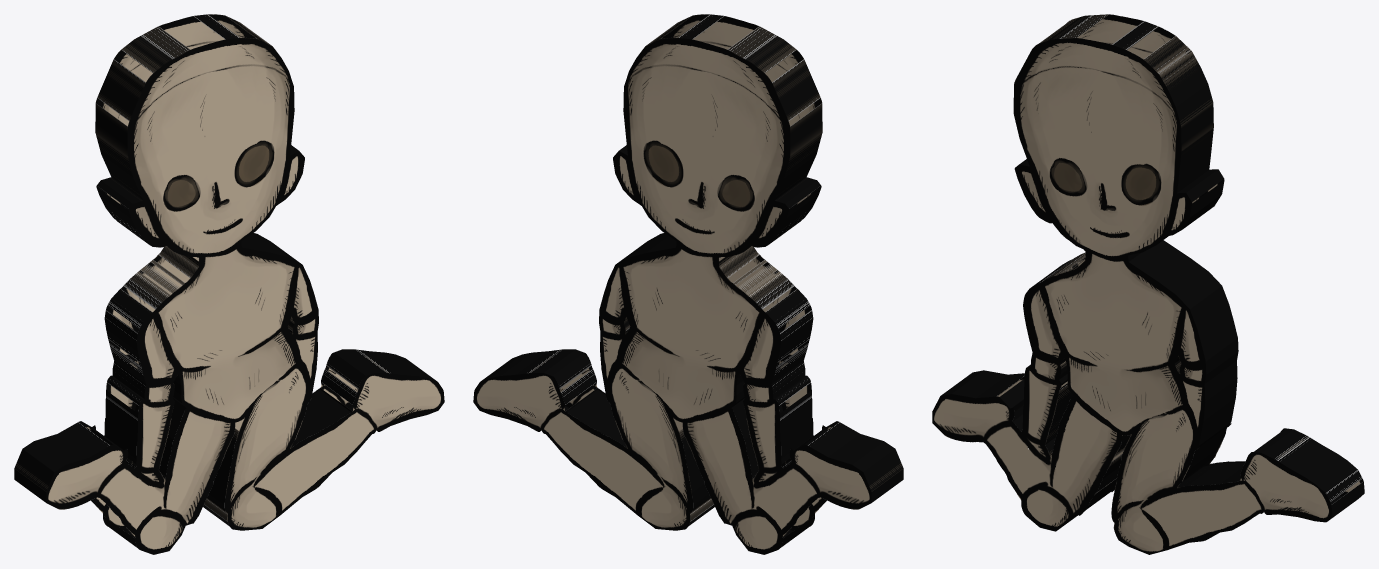
File: doll.fbx
3 views of the same model, side by side, from view 1: azimuth 30°, elevation 25°; view 2: azimuth 150°, elevation 25°; view 3: azimuth 330°, elevation 25° (orthographic).
Visible parts, largest first — view 1: RealDoll; view 2: RealDoll; view 3: RealDoll.
Boxes of the visible parts, x1,y1,x2,y2 form: RealDoll: (14, 14, 444, 554); RealDoll: (473, 14, 903, 554); RealDoll: (932, 14, 1364, 554).
Bounding box in the file's own units: 68.9 × 82.54 × 9.62.
Materials: 1 (1 with a texture image).
